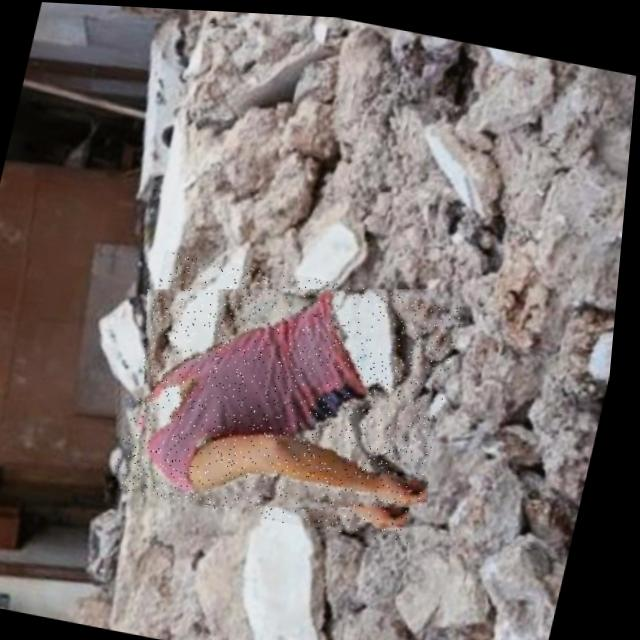Person in Rubble: (116, 245, 472, 542)
